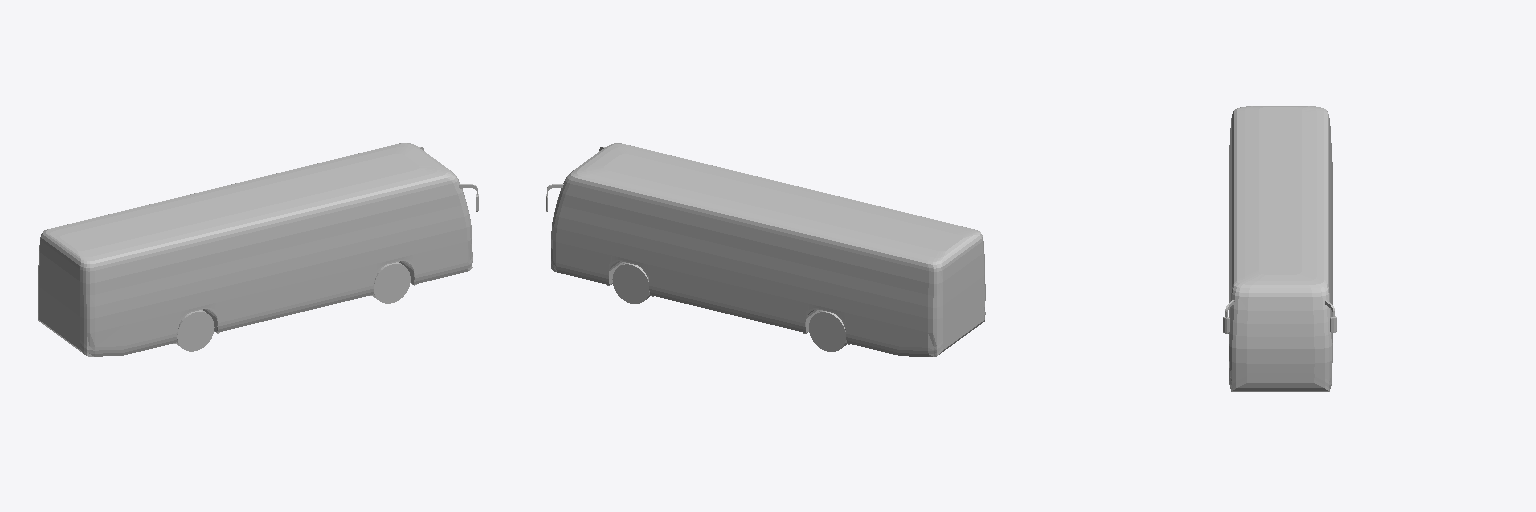
Rendered from Senior Midi.obj.
3 views of the same model, side by side, from view 1: azimuth 30°, elevation 25°; view 2: azimuth 150°, elevation 25°; view 3: azimuth 270°, elevation 25° (orthographic).
Parts seen in each view (by area): view 1: Cube_Cube.002, Cylinder.001, Cylinder.005_Cylinder.006; view 2: Cube_Cube.002, Cylinder.002_Cylinder.003, Cylinder.004_Cylinder.005; view 3: Cube_Cube.002.
Boxes of the visible parts, x1,y1,x2,y2 form: Cube_Cube.002: [38, 143, 472, 356]; Cylinder.001: [176, 310, 214, 351]; Cylinder.005_Cylinder.006: [373, 262, 410, 303]; Cube_Cube.002: [551, 143, 985, 356]; Cylinder.002_Cylinder.003: [809, 310, 846, 351]; Cylinder.004_Cylinder.005: [612, 262, 650, 303]; Cube_Cube.002: [1229, 106, 1332, 391].
Size of the model in its own units: 6.94 by 1.94 by 1.75.